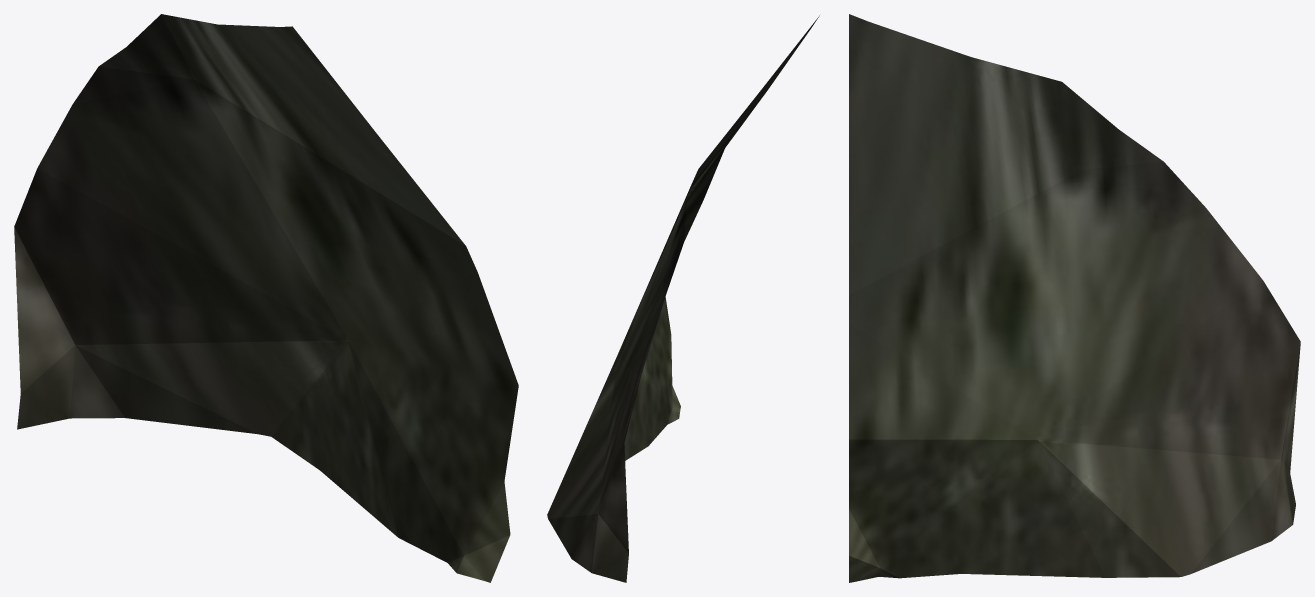
The picture shows the model from 3 angles, left to right: view 1: azimuth 30°, elevation 25°; view 2: azimuth 150°, elevation 25°; view 3: azimuth 270°, elevation 25°; orthographic projection. The views are drawn at different scales.
Size of the model in its own units: 0.6658 by 1.7 by 1.42.
Materials: 1 (1 with a texture image).
